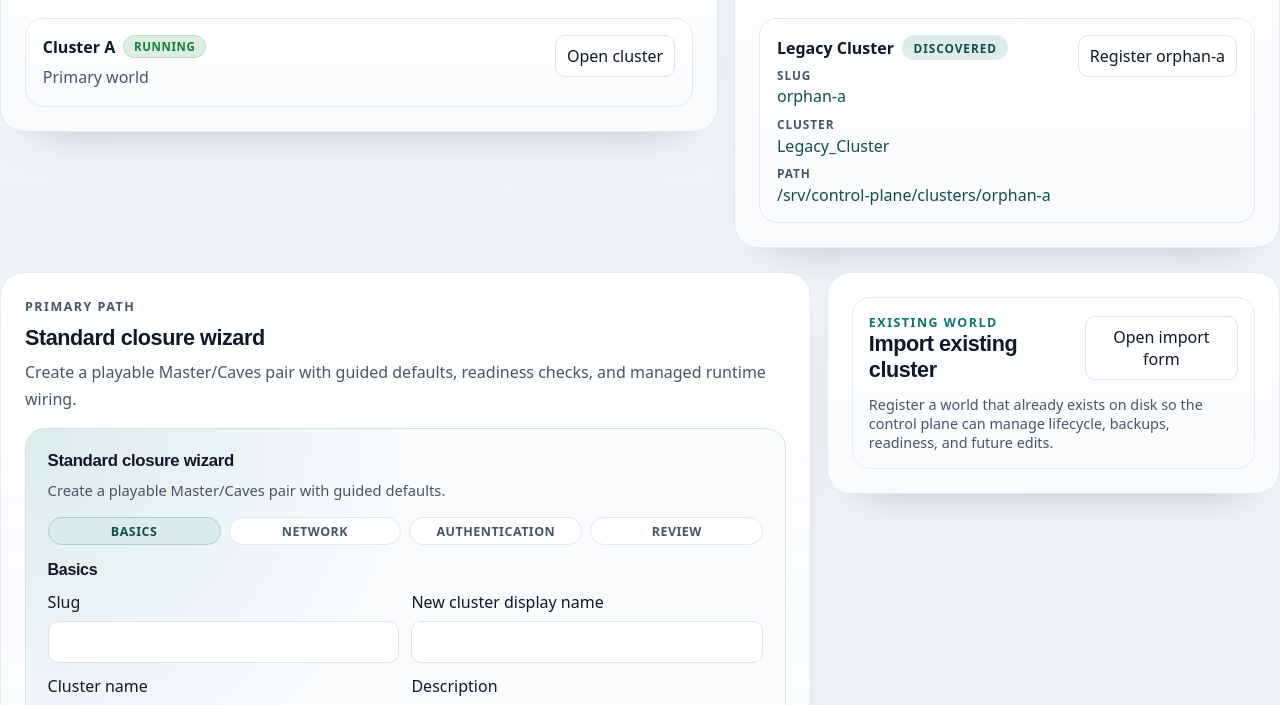
it: ClusterWorkspaceHome › renders the create workspace and secondary import entry
(page scrolled)
Check: the number of headings "Standard closure wizard" is 2, box [25,325,265,350]; [48,451,234,470]
Check: the heading "Import existing cluster" is shown, box [869,331,1017,382]
Click the button "Open import form" at x=1161, y=348, box [1085,316,1238,380]
(page scrolled)
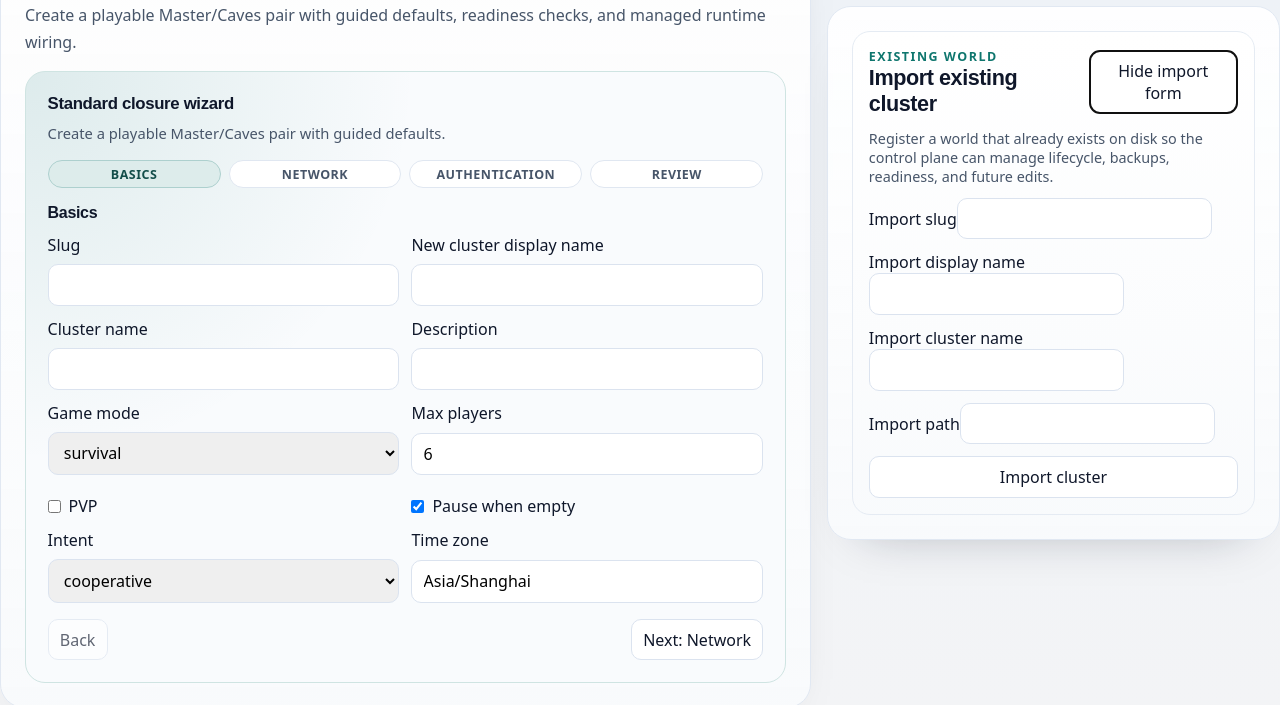
Check: the button "Hide import form" is expanded, box [1089,51,1238,114]
Check: the button "Import cluster" is shown, box [869,456,1238,498]
